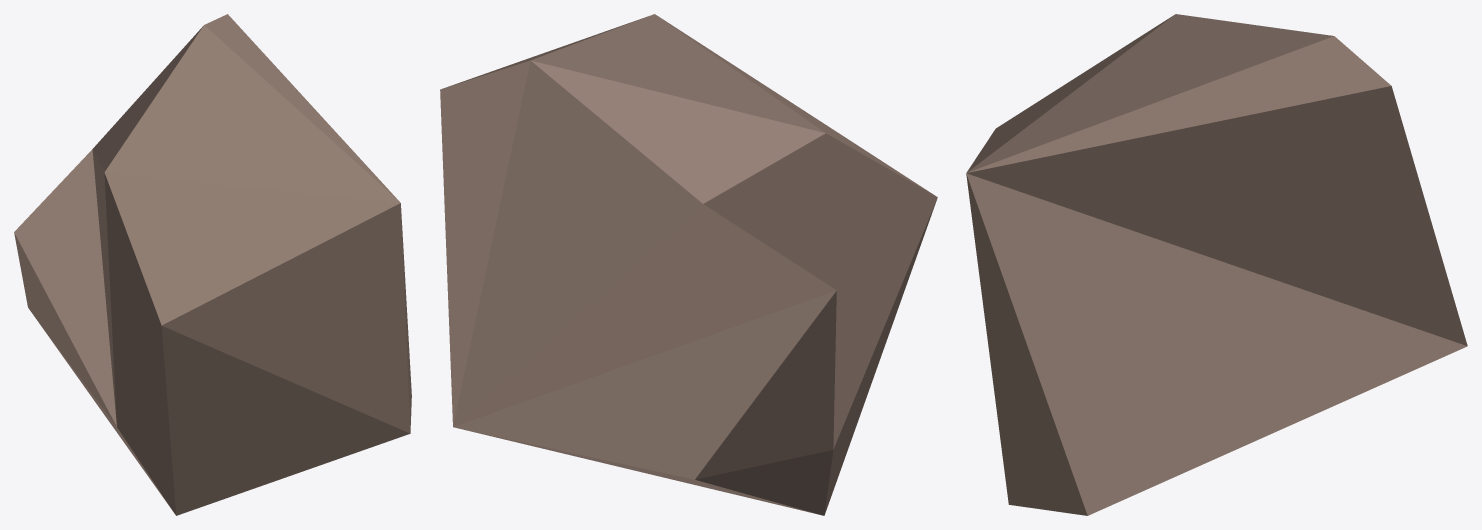
Rendered from RockLarge2.fbx.
3 renders of one model, left to right at view 1: azimuth 30°, elevation 25°; view 2: azimuth 150°, elevation 25°; view 3: azimuth 270°, elevation 25°, orthographic. The views are drawn at different scales.
Visible parts, largest first — view 1: RockLarge2; view 2: RockLarge2; view 3: RockLarge2.
Part boxes in pixels (x1=…): RockLarge2: x1=14, y1=14, x2=411, y2=515; RockLarge2: x1=440, y1=14, x2=937, y2=515; RockLarge2: x1=966, y1=14, x2=1467, y2=515.
Bounding box in the file's own units: 2.8 × 3.23 × 2.99.
